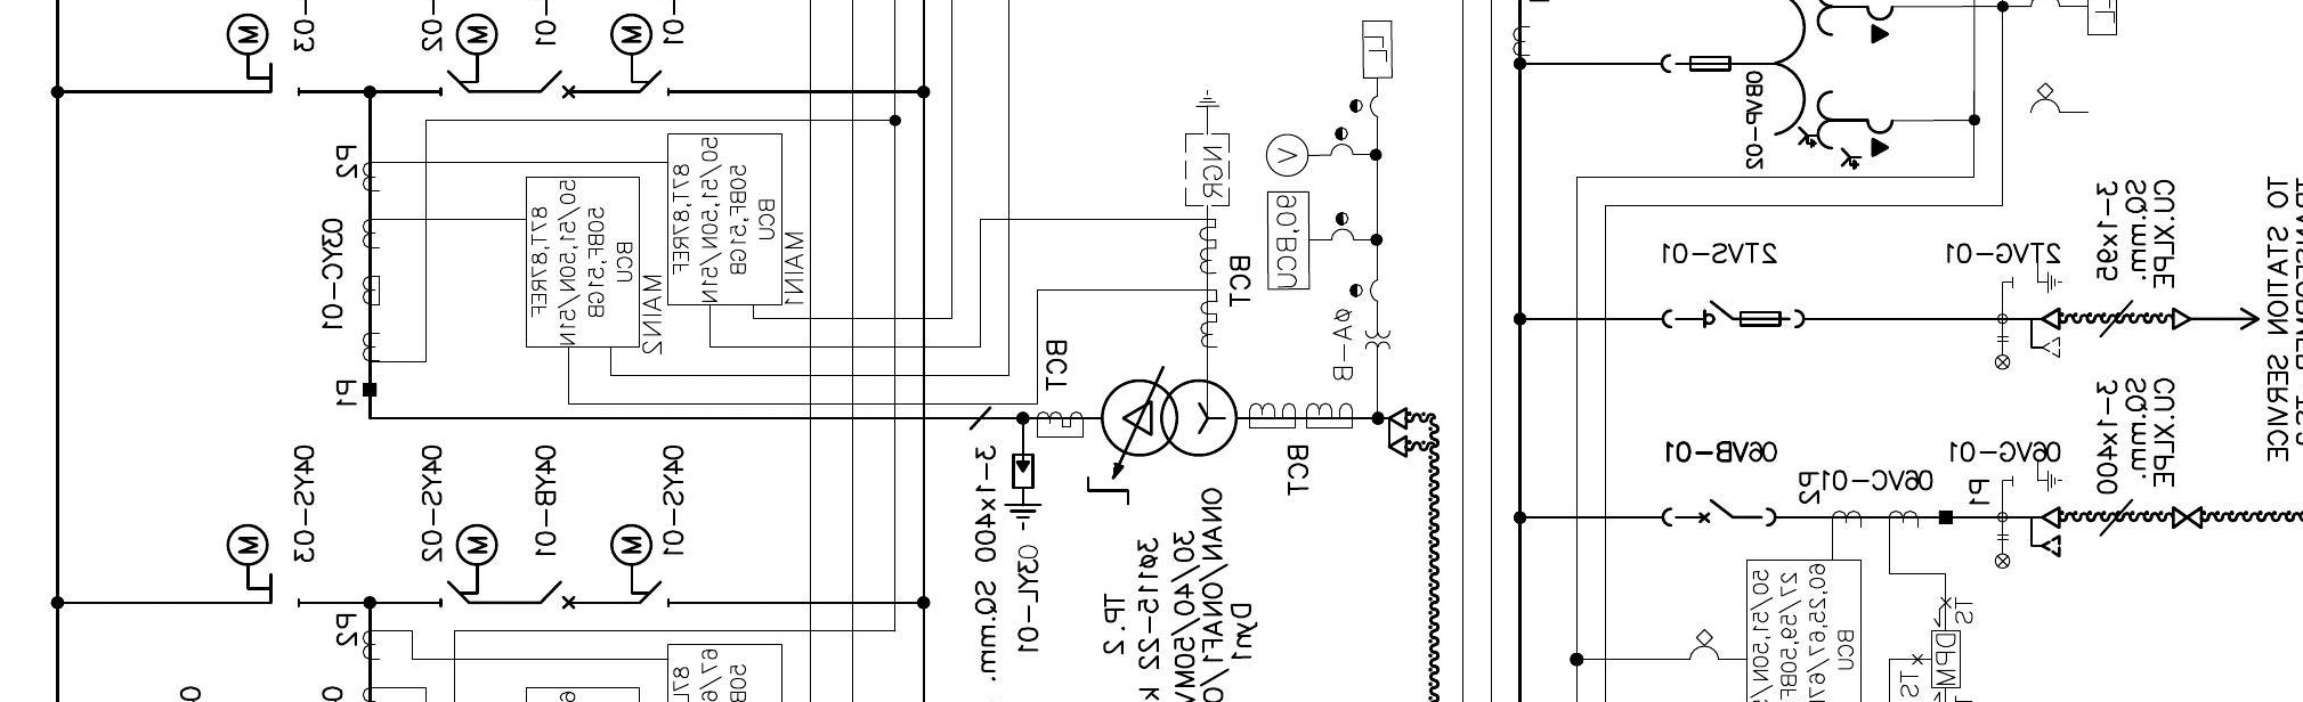11522_tx_dyn1: (1100, 378, 1239, 458)
115_1way_ds_w_motor: (225, 12, 301, 98), (225, 523, 301, 609), (609, 12, 671, 97), (439, 12, 500, 98), (438, 522, 499, 608), (609, 522, 670, 607)
115_breaker: (538, 579, 576, 610), (539, 69, 576, 100)
115_la: (1003, 452, 1042, 531)
22_breaker: (1661, 497, 1778, 528)
22_ds: (1661, 299, 1806, 330)
22_gs: (2011, 461, 2063, 493), (2011, 262, 2064, 293)
22_ll: (1994, 335, 2011, 371), (1994, 534, 2011, 569)
DPM: (1930, 629, 1962, 690)
LL: (1361, 19, 1395, 80)
NGR_future: (1184, 89, 1231, 207)
terminator_double: (1387, 406, 1409, 459)
terminator_single: (2171, 307, 2193, 333)
terminator_splicing_kits: (2172, 505, 2204, 529)
terminator_w_future: (2028, 306, 2061, 360), (2029, 504, 2062, 558)
v_m: (1264, 133, 1310, 179)
